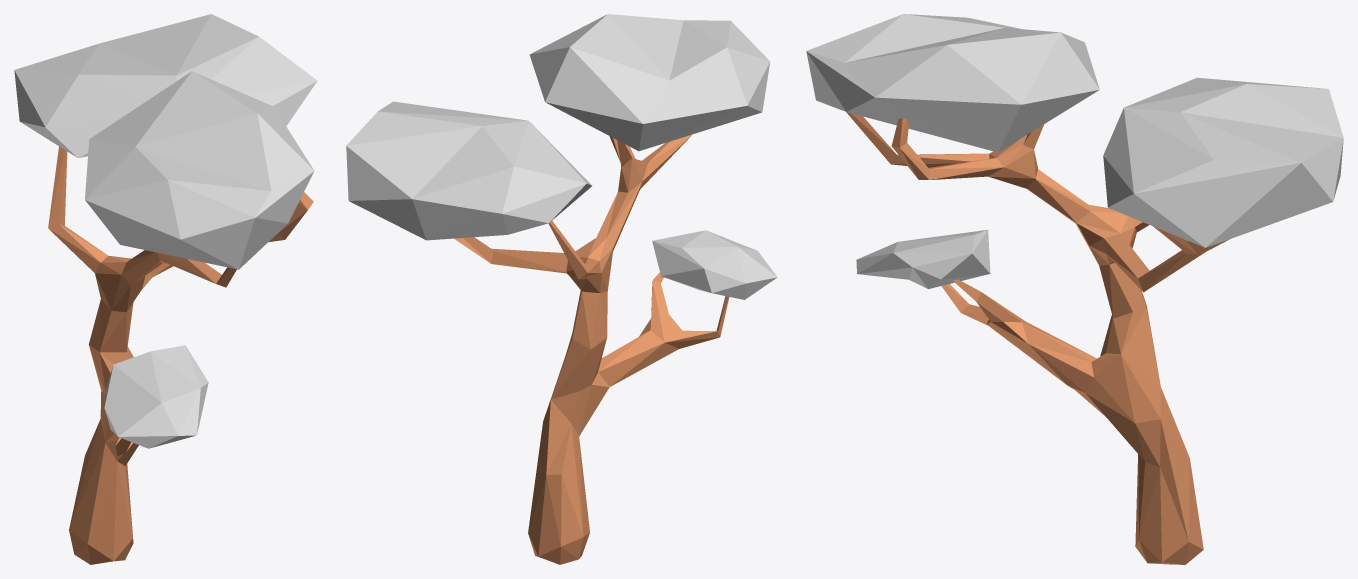
The model's file is Tree8.fbx.
3 views of the same model, side by side, from view 1: azimuth 30°, elevation 25°; view 2: azimuth 150°, elevation 25°; view 3: azimuth 270°, elevation 25° (orthographic). The views are drawn at different scales.
Parts seen in each view (by area): view 1: Plane; view 2: Plane; view 3: Plane.
Boxes of the visible parts, left/top/right/bottom form: Plane: left=14, top=14, right=317, bottom=564; Plane: left=346, top=14, right=777, bottom=564; Plane: left=806, top=14, right=1343, bottom=564.
Size of the model in its own units: 402 by 638 by 563.
